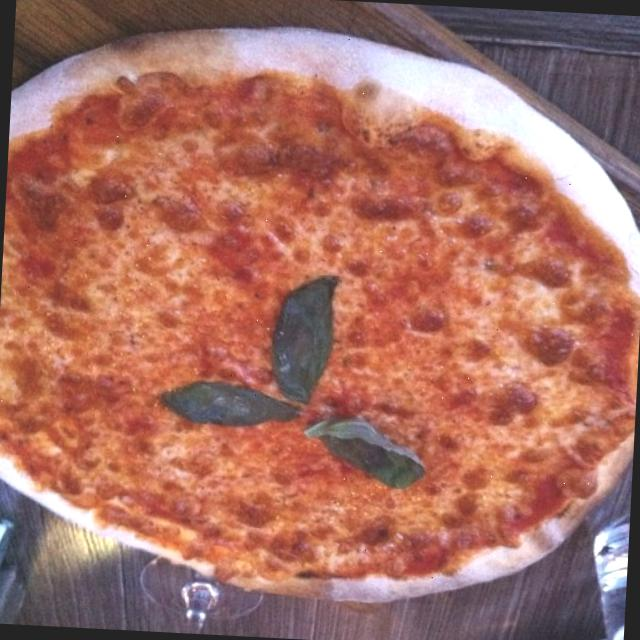basil: (297, 407, 433, 494), (270, 272, 340, 408), (156, 380, 302, 434)
pizza: (0, 28, 640, 601)
